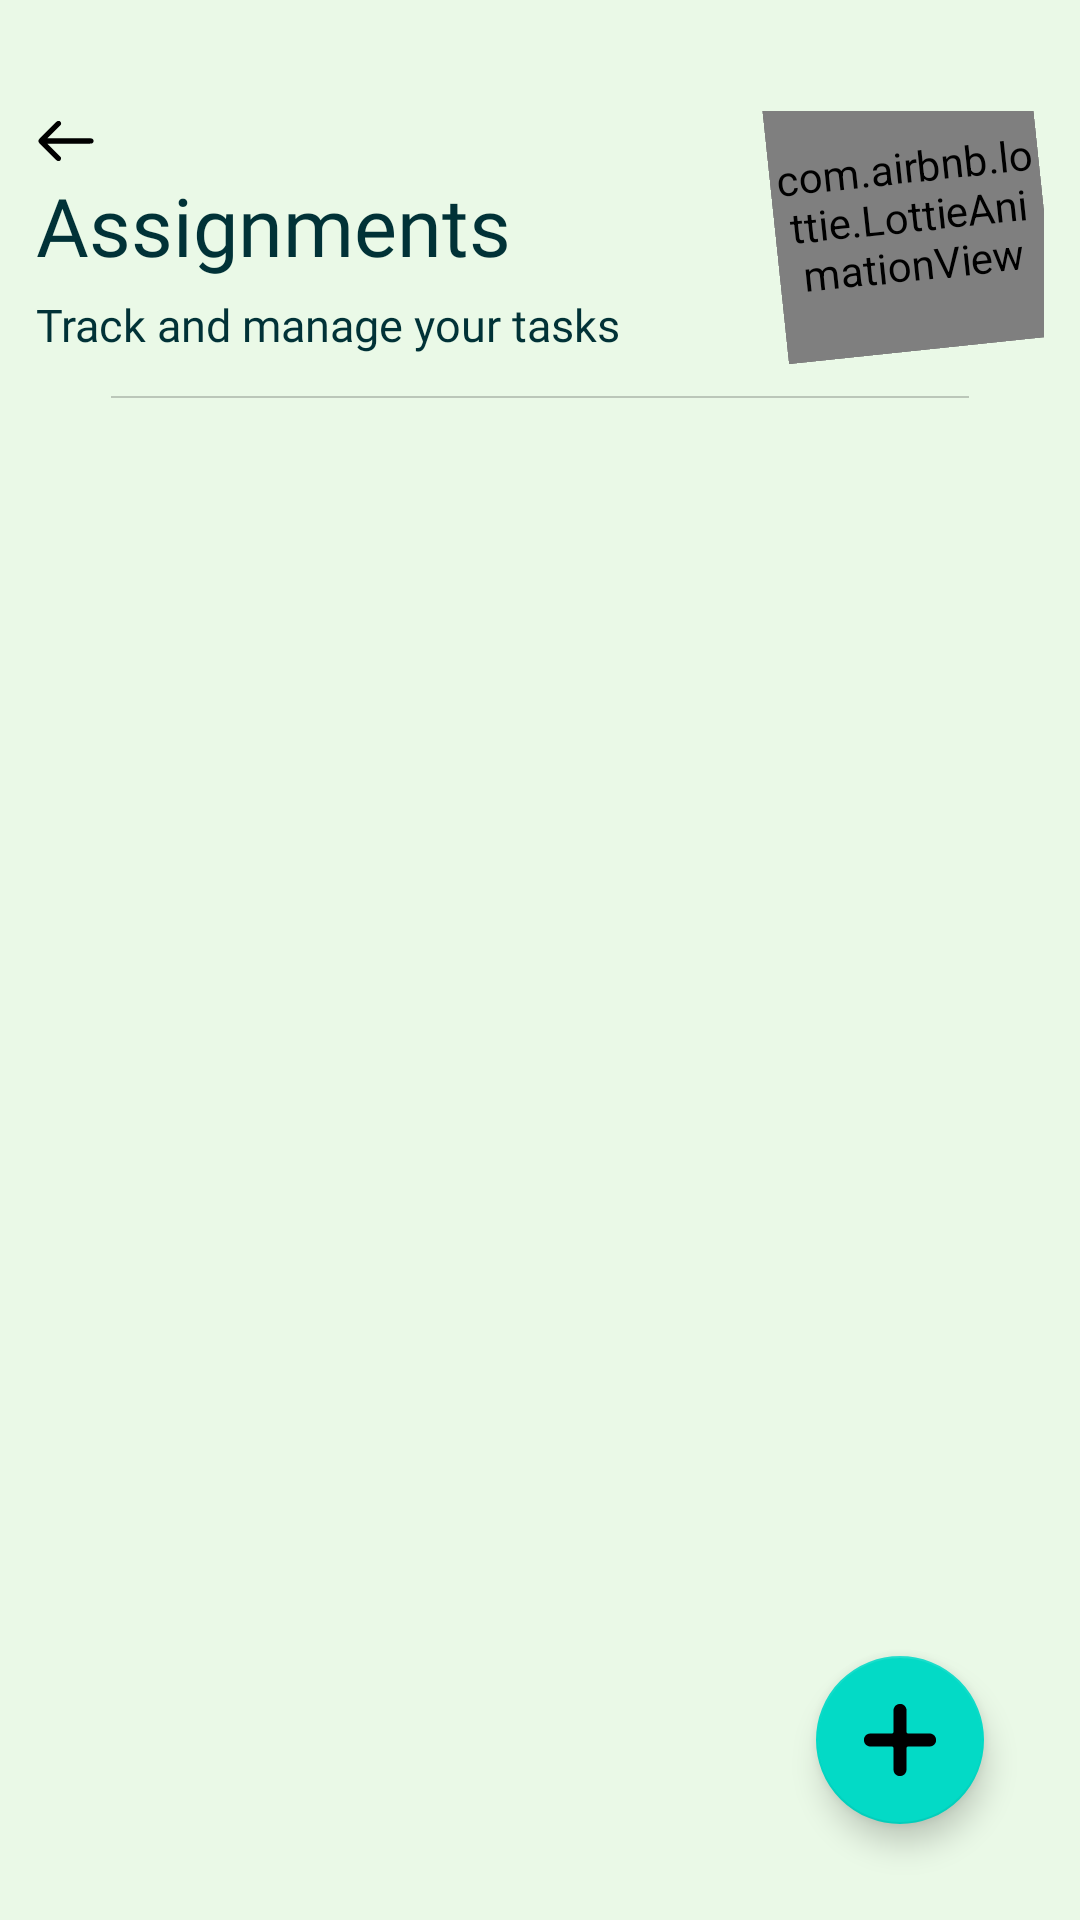

Named icons in this screenshot (1080px x 1920px) and their bounding boxes, detection(x1, y1, x2, y2):
add: detection(816, 1656, 984, 1824)
Back: detection(38, 121, 94, 161)
